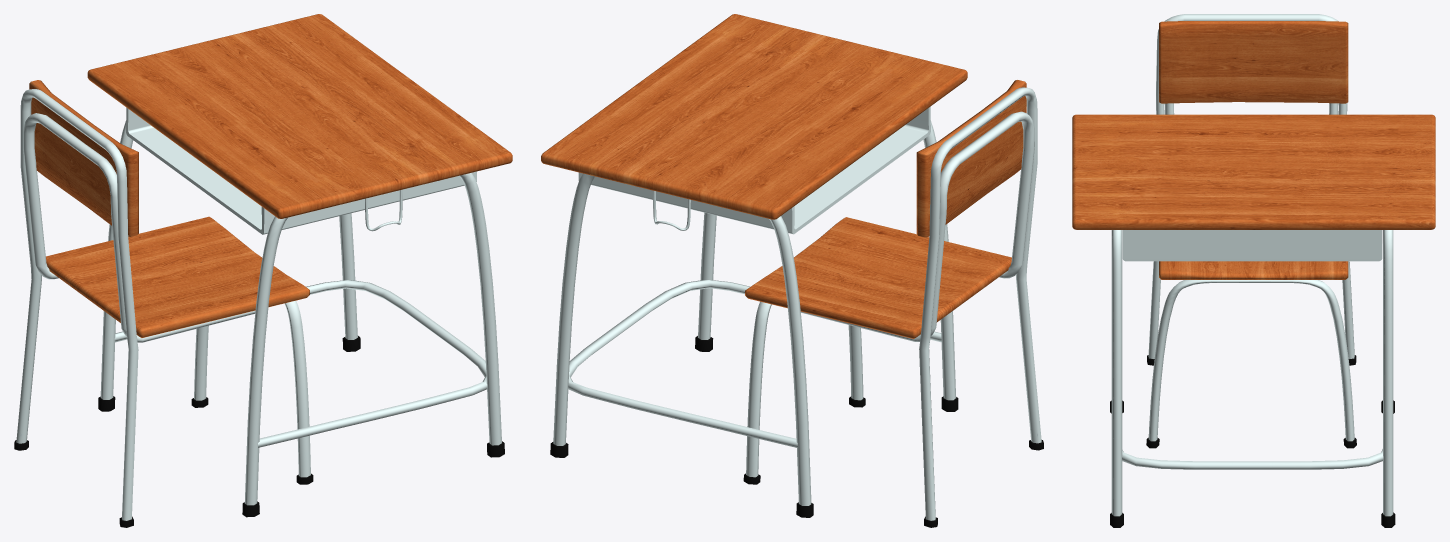
File: ChairSet.fbx
The picture shows the model from 3 angles, left to right: view 1: azimuth 30°, elevation 25°; view 2: azimuth 150°, elevation 25°; view 3: azimuth 270°, elevation 25°; orthographic projection. The views are drawn at different scales.
Visible parts, largest first — view 1: ChairSet01; view 2: ChairSet01; view 3: ChairSet01.
Part boxes in pixels (box(x1,y1,x2,y2)): ChairSet01: box(14, 14, 512, 527); ChairSet01: box(541, 14, 1043, 527); ChairSet01: box(1072, 14, 1435, 527).
Size of the model in its own units: 95.97 by 90.98 by 85.93.
